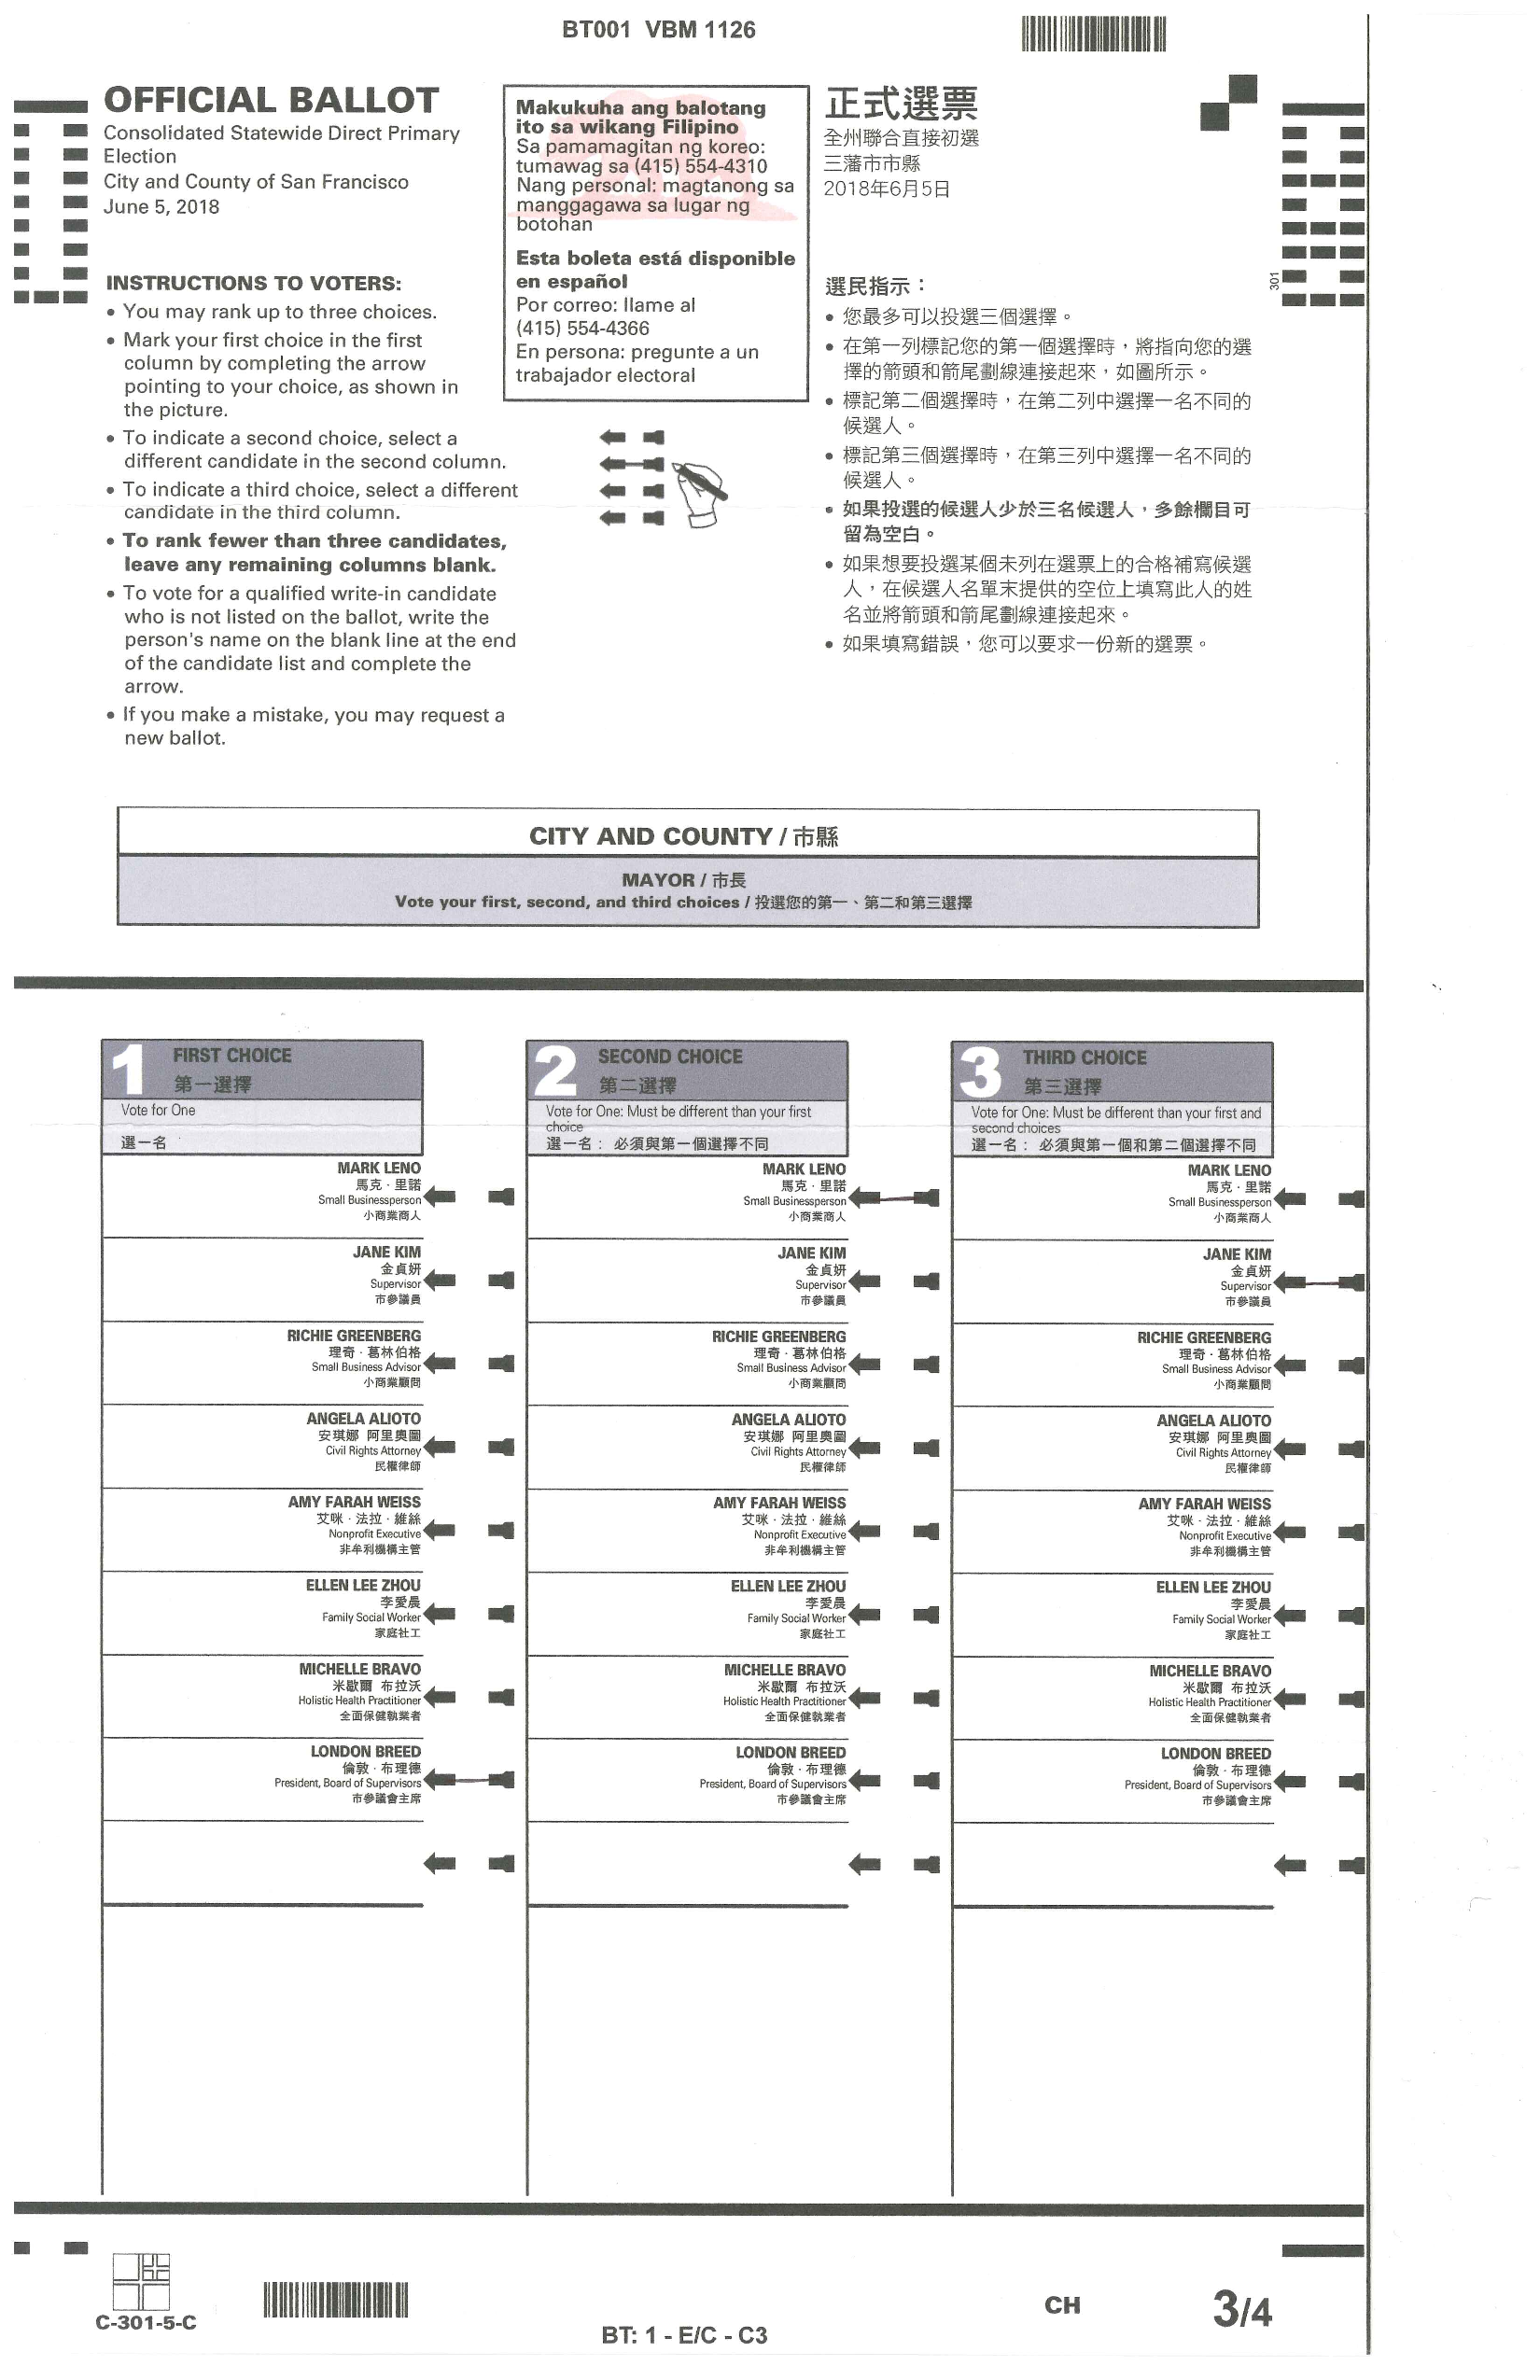marked: (423, 1764, 517, 1794), (1273, 1270, 1365, 1296), (848, 1187, 945, 1211)
unmarked: (848, 1433, 942, 1464), (848, 1683, 947, 1712), (848, 1268, 940, 1298), (1273, 1185, 1367, 1213), (1273, 1520, 1363, 1547), (1273, 1688, 1365, 1712), (421, 1686, 520, 1709)
